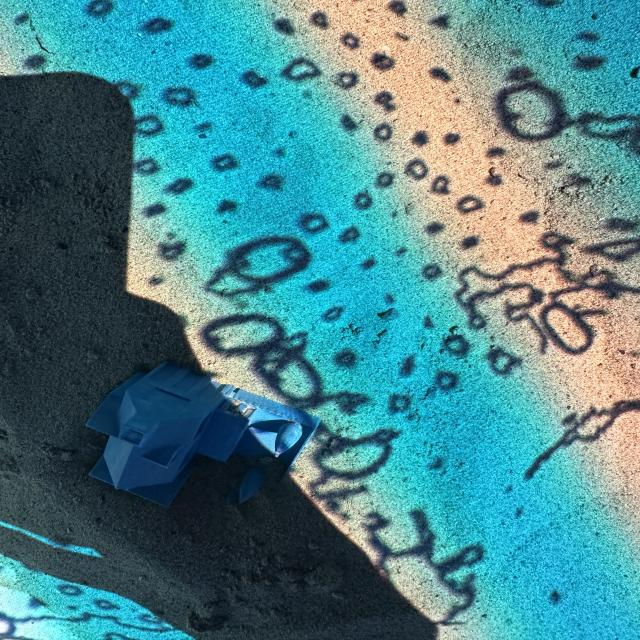house: (84, 360, 321, 508)
